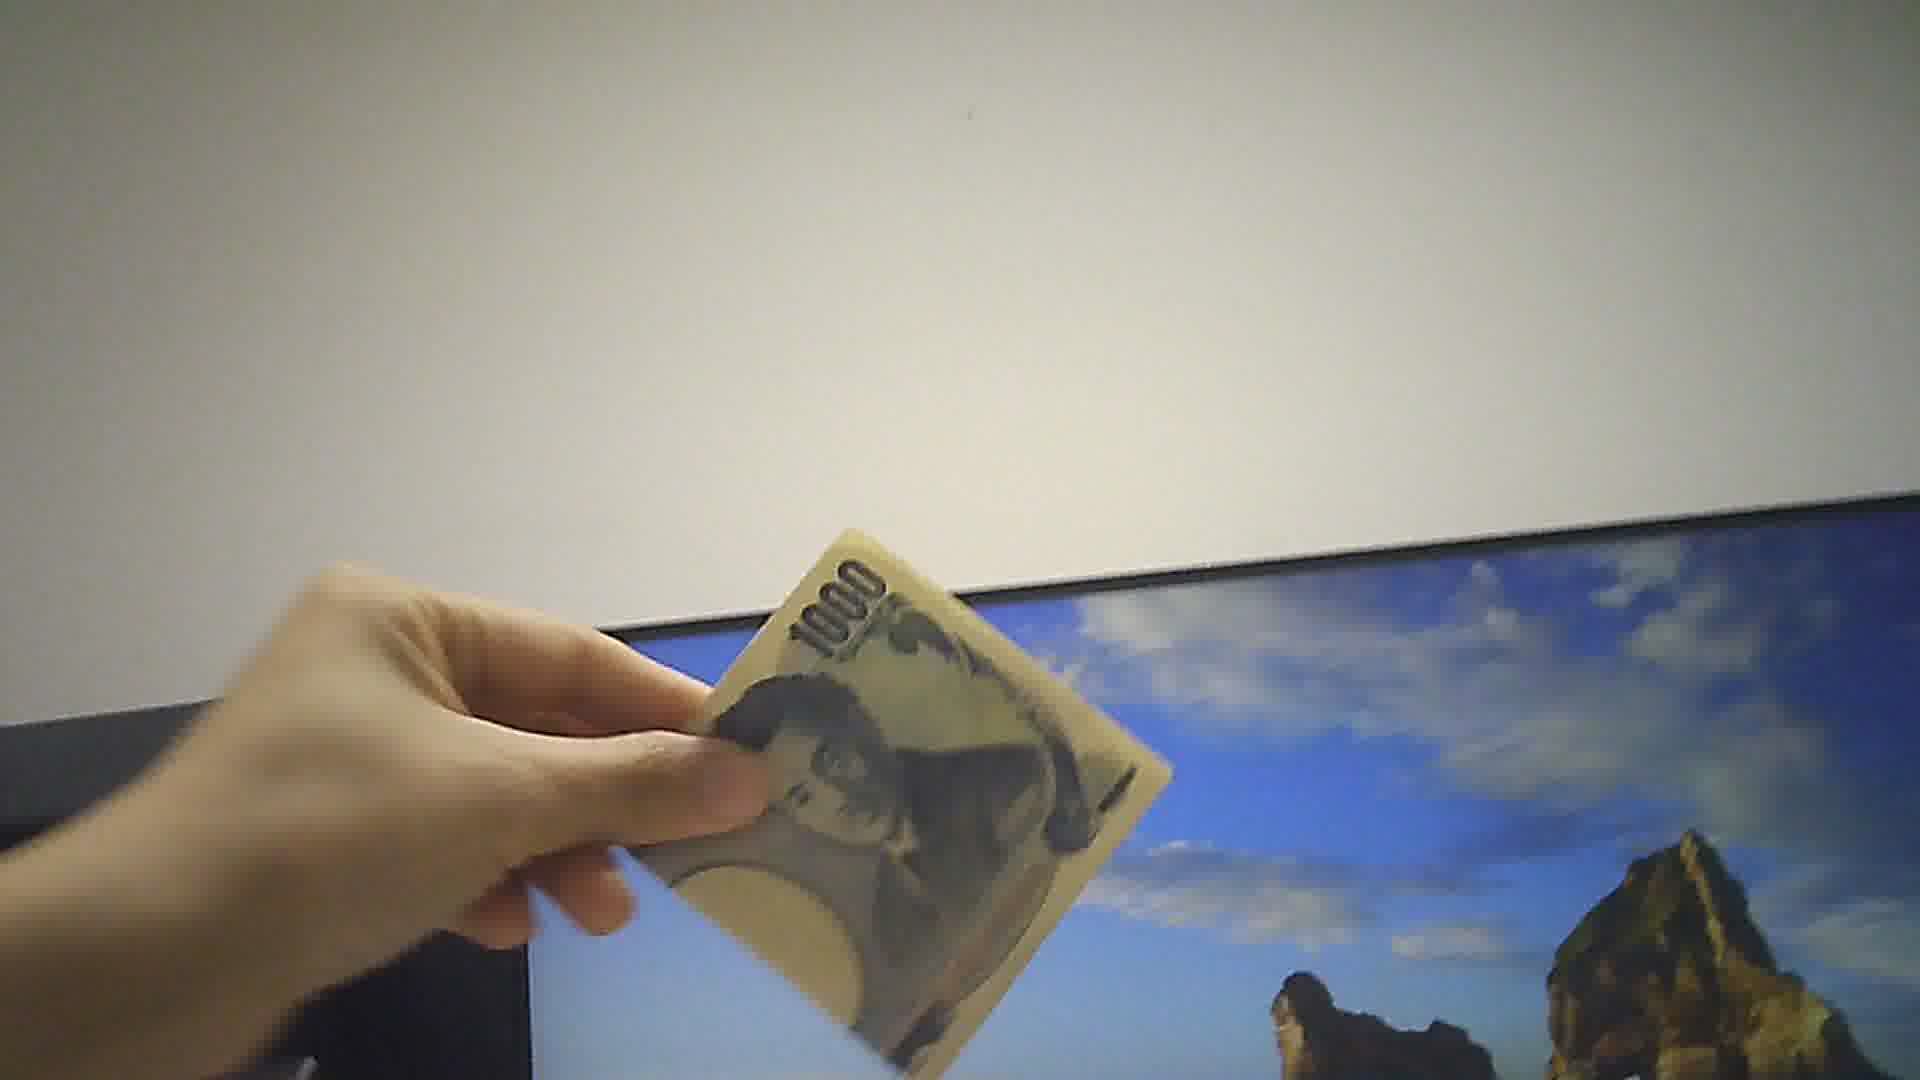1,000 Yen: (575, 524, 1171, 1079)
